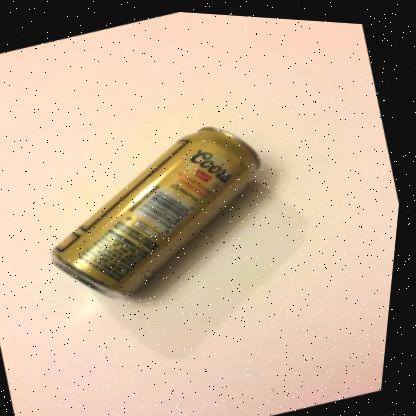Metal: (56, 124, 262, 295)
